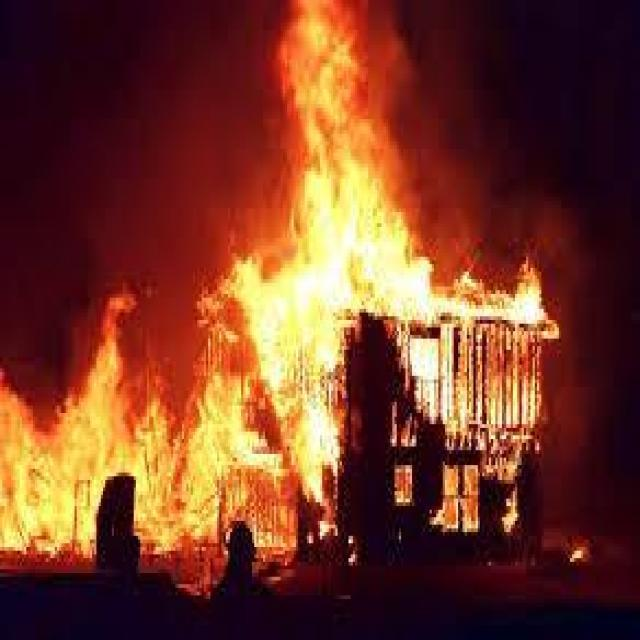Fire: (247, 19, 399, 494), (0, 307, 267, 577), (402, 252, 550, 486)
Smoke: (0, 14, 243, 264), (416, 45, 628, 258)
